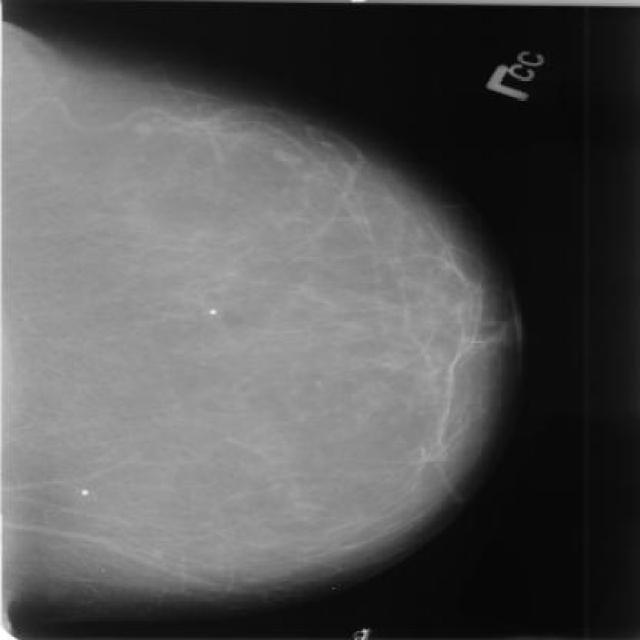tumor: (223, 129, 511, 540)
